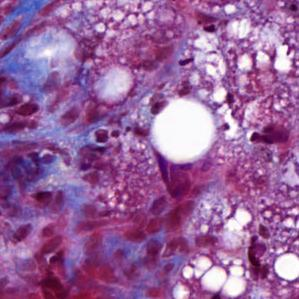inflammation: (246, 116, 292, 149), (244, 236, 271, 277), (91, 121, 127, 147), (194, 17, 221, 35), (172, 54, 201, 69)
